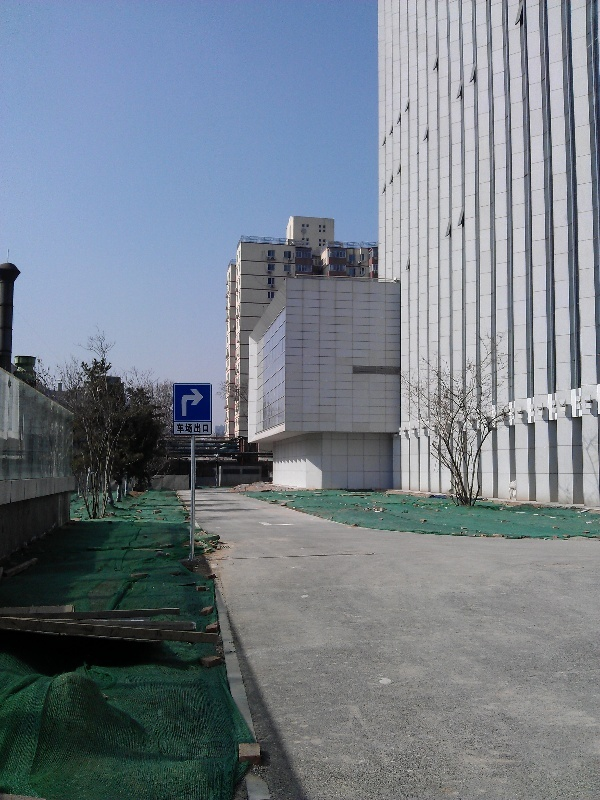text: (193, 424, 209, 434), (177, 424, 192, 434)
